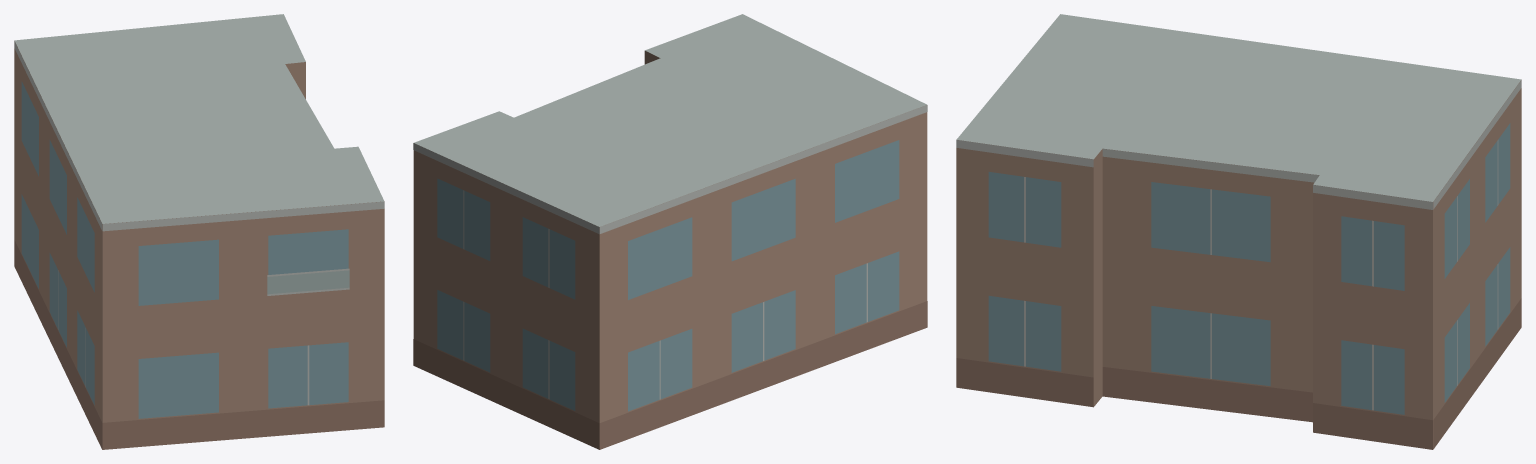
The model's file is survey-upis-32877460.glb.
3 renders of one model, left to right at view 1: azimuth 30°, elevation 25°; view 2: azimuth 150°, elevation 25°; view 3: azimuth 270°, elevation 25°, orthographic. The views are drawn at different scales.
Visible parts, largest first — view 1: survey-upis-32877460.tmp; view 2: survey-upis-32877460.tmp; view 3: survey-upis-32877460.tmp.
Boxes of the visible parts, x1=… form: survey-upis-32877460.tmp: x1=14, y1=14, x2=384, y2=449; survey-upis-32877460.tmp: x1=413, y1=14, x2=927, y2=449; survey-upis-32877460.tmp: x1=956, y1=14, x2=1521, y2=449.
Size of the model in its own units: 12.21 by 7.5 by 15.51.
